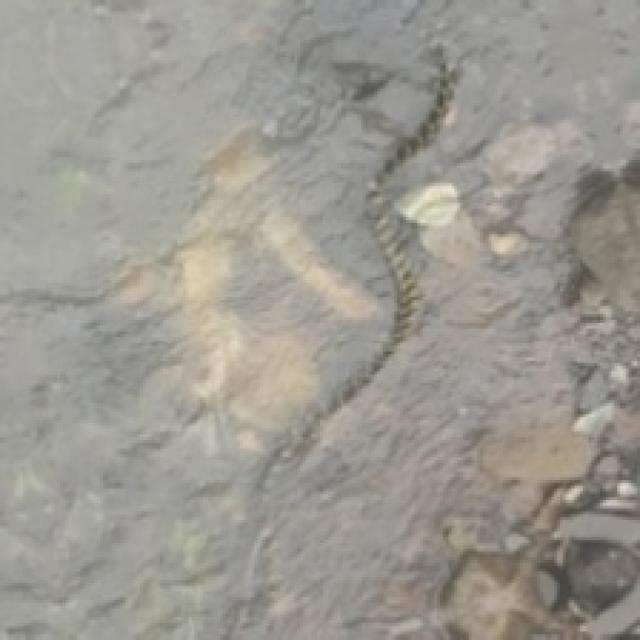mangrove cat snake: (240, 417, 429, 637), (366, 49, 457, 380)
